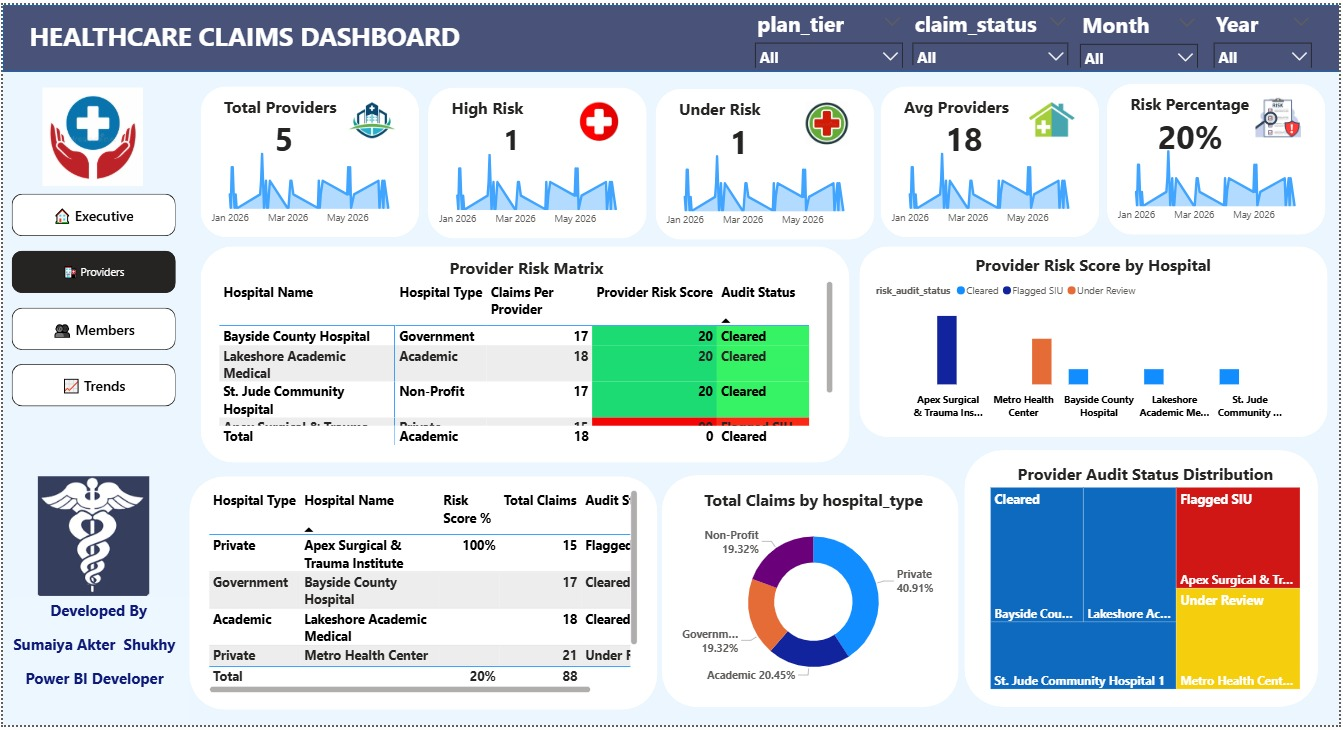

The dashboard page shown, as its layout file describes it:
{"tool":"powerbi","page":{"name":"🏥 Providers ","canvas":[1670,900],"ordinal":1},"visuals":[{"type":"group","id":"g1","title":"Group 1","box":[0,0,1800,738.3],"z":0},{"type":"shape","box":[1380.3,98.4,273.4,188.6],"z":0,"group":"g11"},{"type":"shape","box":[247.5,101.6,273.4,188.6],"z":0,"group":"g2"},{"type":"shape","box":[1096.7,101.6,273.4,188.6],"z":0,"group":"g10"},{"type":"shape","box":[531.1,103.3,273.4,188.6],"z":0,"group":"g8"},{"type":"shape","box":[816.4,104.9,273.4,188.6],"z":0,"group":"g9"},{"type":"card","title":"Risk Percentage","fields":{"Values":["public dim_providers.Risk Score %"]},"box":[1403.8,109.6,162.5,82.5],"z":0,"group":"g3"},{"type":"card","title":"Total Providers","fields":{"Values":["public dim_providers.Total Providers"]},"box":[271,112.8,162.5,82.5],"z":0,"group":"g4"},{"type":"card","title":"Avg Providers","fields":{"Values":["public dim_providers.Claims Per Provider"]},"box":[1120.2,112.8,162.5,82.5],"z":0,"group":"g5"},{"type":"card","title":"High Risk ","fields":{"Values":["public dim_providers.High Risk Providers"]},"box":[554.6,114.5,162.5,82.5],"z":0,"group":"g6"},{"type":"card","title":"Under Risk","fields":{"Values":["public dim_providers.Under Risk Providers"]},"box":[839.9,116.1,162.5,82.5],"z":0,"group":"g7"},{"type":"shape","box":[824.2,587.1,371,290.3],"z":0,"group":"g13"},{"type":"group","id":"g2","title":"Group 3","box":[247.5,101.6,273.8,188.5],"z":1000},{"type":"group","id":"g3","title":"Group 2","box":[1387.7,109.6,258.1,171.2],"z":1000,"group":"g11"},{"type":"group","id":"g4","title":"Group 2","box":[254.9,112.8,258.1,171.2],"z":1000,"group":"g2"},{"type":"group","id":"g5","title":"Group 2","box":[1104.1,112.8,258.1,171.2],"z":1000,"group":"g10"},{"type":"group","id":"g6","title":"Group 2","box":[538.5,114.5,258.1,171.2],"z":1000,"group":"g8"},{"type":"group","id":"g7","title":"Group 2","box":[823.8,116.1,258.1,171.2],"z":1000,"group":"g9"},{"type":"areaChart","fields":{"Y":["public fact_claims.Total Claims"],"Category":["Calendar.Date.Variation.Date Hierarchy.Year","Calendar.Date.Variation.Date Hierarchy.Quarter","Calendar.Date.Variation.Date Hierarchy.Month","Calendar.Date.Variation.Date Hierarchy.Day"]},"box":[1387.7,168.7,258.1,112.1],"z":1000,"group":"g3"},{"type":"areaChart","fields":{"Y":["public fact_claims.Total Claims"],"Category":["Calendar.Date.Variation.Date Hierarchy.Year","Calendar.Date.Variation.Date Hierarchy.Quarter","Calendar.Date.Variation.Date Hierarchy.Month","Calendar.Date.Variation.Date Hierarchy.Day"]},"box":[254.9,171.9,258.1,112.1],"z":1000,"group":"g4"},{"type":"areaChart","fields":{"Y":["public fact_claims.Total Claims"],"Category":["Calendar.Date.Variation.Date Hierarchy.Year","Calendar.Date.Variation.Date Hierarchy.Quarter","Calendar.Date.Variation.Date Hierarchy.Month","Calendar.Date.Variation.Date Hierarchy.Day"]},"box":[1104.1,171.9,258.1,112.1],"z":1000,"group":"g5"},{"type":"areaChart","fields":{"Y":["public fact_claims.Total Claims"],"Category":["Calendar.Date.Variation.Date Hierarchy.Year","Calendar.Date.Variation.Date Hierarchy.Quarter","Calendar.Date.Variation.Date Hierarchy.Month","Calendar.Date.Variation.Date Hierarchy.Day"]},"box":[538.5,173.6,258.1,112.1],"z":1000,"group":"g6"},{"type":"areaChart","fields":{"Y":["public fact_claims.Total Claims"],"Category":["Calendar.Date.Variation.Date Hierarchy.Year","Calendar.Date.Variation.Date Hierarchy.Quarter","Calendar.Date.Variation.Date Hierarchy.Month","Calendar.Date.Variation.Date Hierarchy.Day"]},"box":[823.8,175.2,258.1,112.1],"z":1000,"group":"g7"},{"type":"pageNavigator","box":[10.9,236.5,205.9,266.7],"z":1000,"group":"g1"},{"type":"donutChart","fields":{"Category":["public dim_providers.hospital_type"],"Y":["public fact_claims.Total Claims"]},"box":[843.6,604.8,341.9,256.5],"z":1000,"group":"g13"},{"type":"shape","box":[0,0,1800,83.7],"z":2000,"group":"g1"},{"type":"group","id":"g8","title":"Group 3","box":[531.1,103.3,273.8,186.9],"z":2000},{"type":"image","box":[1566.3,114.5,56.5,54.2],"z":2000,"group":"g3"},{"type":"image","box":[433.5,117.7,56.5,54.2],"z":2000,"group":"g4"},{"type":"image","box":[1282.7,117.7,56.5,54.2],"z":2000,"group":"g5"},{"type":"image","box":[717.1,119.4,56.5,54.2],"z":2000,"group":"g6"},{"type":"image","box":[1002.4,121,56.5,54.2],"z":2000,"group":"g7"},{"type":"textbox","box":[27.9,13.1,583.6,57.4],"z":3000,"group":"g1"},{"type":"group","id":"g9","title":"Group 3","box":[816.4,104.9,273.8,186.9],"z":3000},{"type":"group","id":"g10","title":"Group 3","box":[1096.7,101.6,273.8,186.9],"z":4000},{"type":"image","box":[17.7,588.5,192.2,149.8],"z":4000,"group":"g1"},{"type":"group","id":"g11","title":"Group 3","box":[1380.3,98.4,275.4,186.9],"z":5000},{"type":"image","box":[11.5,103.3,201.6,123],"z":5000,"group":"g1"},{"type":"shape","box":[247.5,301.6,811.5,270.5],"z":6000,"group":"g15"},{"type":"shape","box":[1201.6,555.7,442.6,321.3],"z":6000},{"type":"pivotTable","title":"Provider Risk Matrix","fields":{"Rows":["public dim_providers.hospital_name"],"Values":["Min(public dim_providers.hospital_type)","public dim_providers.Claims Per Provider","public dim_providers.Provider Risk Score","Min(public dim_providers.risk_audit_status)"]},"box":[265.5,314.7,777,241],"z":7000,"group":"g15"},{"type":"treemap","title":"Provider Audit Status Distribution","fields":{"Group":["public dim_providers.risk_audit_status"],"Details":["public dim_providers.hospital_name"],"Values":["CountNonNull(public dim_providers.provider_id)"]},"box":[1229.5,572.1,396.7,288.5],"z":7000},{"type":"group","id":"g12","title":"Group 4","box":[1070.5,301.6,585.2,237.7],"z":8000},{"type":"group","id":"g13","title":"Group 5","box":[824.2,587.1,371,290.3],"z":9000},{"type":"group","id":"g14","title":"Group 6","box":[232.8,588.5,585.2,291.8],"z":10000},{"type":"shape","box":[232.8,588.5,585.2,291.8],"z":10500,"group":"g14"},{"type":"tableEx","fields":{"Values":["public dim_providers.hospital_type","public dim_providers.hospital_name","public dim_providers.Risk Score %","public fact_claims.Total Claims","public dim_providers.risk_audit_status"]},"box":[251,601.4,546.4,263.6],"z":11000,"group":"g14"},{"type":"textbox","box":[8.2,739.3,224.6,155.7],"z":11000},{"type":"group","id":"g15","title":"Group 7","box":[247.5,301.6,811.5,270.5],"z":12000},{"type":"shape","box":[1070.5,301.6,585.5,238.7],"z":13000,"group":"g12"},{"type":"clusteredColumnChart","title":"Provider Risk Score by Hospital","fields":{"Category":["public dim_providers.hospital_name"],"Y":["public dim_providers.Provider Risk Score"],"Series":["public dim_providers.risk_audit_status"]},"box":[1085.9,310.5,553.2,214.5],"z":13500,"group":"g12"},{"type":"slicer","fields":{"Values":["Calendar.Year"]},"box":[1503.3,0,142.6,78.7],"z":13501},{"type":"slicer","fields":{"Values":["Calendar.Month"]},"box":[1336.1,1.6,167.2,77],"z":13502},{"type":"slicer","fields":{"Values":["public fact_claims.claim_status"]},"box":[1126.2,0,214.8,75.4],"z":13503},{"type":"slicer","fields":{"Values":["public dim_plans.plan_tier"]},"box":[929.5,0,204.9,78.7],"z":13504}]}

Visuals, with their boxes in screenshot pixels (x1, y1, x2, y2), scaled from the page's 1670x900 canvas onto the 1343x730 screenshot:
"Group 1" group: {"x1": 0, "y1": 0, "x2": 1342, "y2": 599}
shape: {"x1": 1110, "y1": 80, "x2": 1330, "y2": 233}
shape: {"x1": 199, "y1": 82, "x2": 419, "y2": 235}
shape: {"x1": 882, "y1": 82, "x2": 1102, "y2": 235}
shape: {"x1": 427, "y1": 84, "x2": 647, "y2": 237}
shape: {"x1": 657, "y1": 85, "x2": 876, "y2": 238}
"Risk Percentage" card: {"x1": 1129, "y1": 89, "x2": 1260, "y2": 156}
"Total Providers" card: {"x1": 218, "y1": 91, "x2": 349, "y2": 158}
"Avg Providers" card: {"x1": 901, "y1": 91, "x2": 1032, "y2": 158}
"High Risk " card: {"x1": 446, "y1": 93, "x2": 577, "y2": 160}
"Under Risk" card: {"x1": 675, "y1": 94, "x2": 806, "y2": 161}
shape: {"x1": 663, "y1": 476, "x2": 961, "y2": 712}
"Group 3" group: {"x1": 199, "y1": 82, "x2": 419, "y2": 235}
"Group 2" group: {"x1": 1116, "y1": 89, "x2": 1324, "y2": 228}
"Group 2" group: {"x1": 205, "y1": 91, "x2": 413, "y2": 230}
"Group 2" group: {"x1": 888, "y1": 91, "x2": 1095, "y2": 230}
"Group 2" group: {"x1": 433, "y1": 93, "x2": 641, "y2": 232}
"Group 2" group: {"x1": 662, "y1": 94, "x2": 870, "y2": 233}
areaChart - public fact_claims.Total Claims x Calendar.Date.Variation.Date Hierarchy.Year: {"x1": 1116, "y1": 137, "x2": 1324, "y2": 228}
areaChart - public fact_claims.Total Claims x Calendar.Date.Variation.Date Hierarchy.Year: {"x1": 205, "y1": 139, "x2": 413, "y2": 230}
areaChart - public fact_claims.Total Claims x Calendar.Date.Variation.Date Hierarchy.Year: {"x1": 888, "y1": 139, "x2": 1095, "y2": 230}
areaChart - public fact_claims.Total Claims x Calendar.Date.Variation.Date Hierarchy.Year: {"x1": 433, "y1": 141, "x2": 641, "y2": 232}
areaChart - public fact_claims.Total Claims x Calendar.Date.Variation.Date Hierarchy.Year: {"x1": 662, "y1": 142, "x2": 870, "y2": 233}
pageNavigator: {"x1": 9, "y1": 192, "x2": 174, "y2": 408}
donutChart - public dim_providers.hospital_type x public fact_claims.Total Claims: {"x1": 678, "y1": 491, "x2": 953, "y2": 699}
shape: {"x1": 0, "y1": 0, "x2": 1342, "y2": 68}
"Group 3" group: {"x1": 427, "y1": 84, "x2": 647, "y2": 235}
image: {"x1": 1260, "y1": 93, "x2": 1305, "y2": 137}
image: {"x1": 349, "y1": 95, "x2": 394, "y2": 139}
image: {"x1": 1032, "y1": 95, "x2": 1077, "y2": 139}
image: {"x1": 577, "y1": 97, "x2": 622, "y2": 141}
image: {"x1": 806, "y1": 98, "x2": 852, "y2": 142}
textbox: {"x1": 22, "y1": 11, "x2": 492, "y2": 57}
"Group 3" group: {"x1": 657, "y1": 85, "x2": 877, "y2": 237}
"Group 3" group: {"x1": 882, "y1": 82, "x2": 1102, "y2": 234}
image: {"x1": 14, "y1": 477, "x2": 169, "y2": 599}
"Group 3" group: {"x1": 1110, "y1": 80, "x2": 1332, "y2": 231}
image: {"x1": 9, "y1": 84, "x2": 171, "y2": 184}
shape: {"x1": 199, "y1": 245, "x2": 852, "y2": 464}
shape: {"x1": 966, "y1": 451, "x2": 1322, "y2": 711}
"Provider Risk Matrix" pivotTable: {"x1": 214, "y1": 255, "x2": 838, "y2": 451}
"Provider Audit Status Distribution" treemap: {"x1": 989, "y1": 464, "x2": 1308, "y2": 698}
"Group 4" group: {"x1": 861, "y1": 245, "x2": 1332, "y2": 437}
"Group 5" group: {"x1": 663, "y1": 476, "x2": 961, "y2": 712}
"Group 6" group: {"x1": 187, "y1": 477, "x2": 658, "y2": 714}
shape: {"x1": 187, "y1": 477, "x2": 658, "y2": 714}
tableEx - public dim_providers.hospital_type x public dim_providers.hospital_name: {"x1": 202, "y1": 488, "x2": 641, "y2": 702}
textbox: {"x1": 7, "y1": 600, "x2": 187, "y2": 726}
"Group 7" group: {"x1": 199, "y1": 245, "x2": 852, "y2": 464}
shape: {"x1": 861, "y1": 245, "x2": 1332, "y2": 438}
"Provider Risk Score by Hospital" clusteredColumnChart: {"x1": 873, "y1": 252, "x2": 1318, "y2": 426}
slicer - Calendar.Year: {"x1": 1209, "y1": 0, "x2": 1324, "y2": 64}
slicer - Calendar.Month: {"x1": 1074, "y1": 1, "x2": 1209, "y2": 64}
slicer - public fact_claims.claim_status: {"x1": 906, "y1": 0, "x2": 1078, "y2": 61}
slicer - public dim_plans.plan_tier: {"x1": 747, "y1": 0, "x2": 912, "y2": 64}
